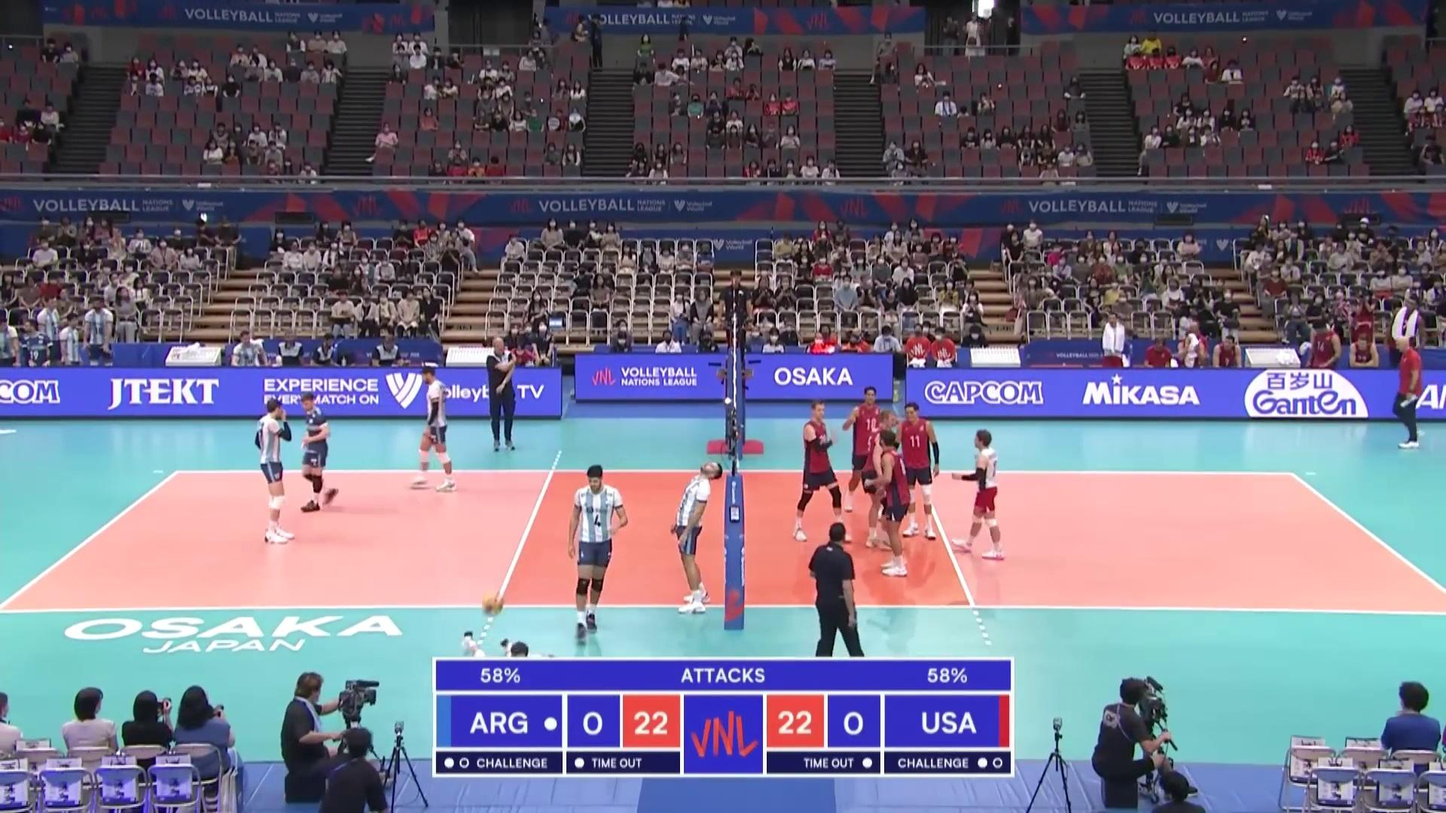player: (568, 464, 628, 643), (793, 401, 851, 542), (670, 462, 721, 617), (956, 427, 1003, 563), (456, 629, 563, 688), (869, 431, 910, 580), (843, 388, 889, 520), (412, 368, 460, 494), (895, 403, 938, 542), (254, 400, 294, 545), (865, 410, 905, 550), (296, 394, 340, 514)
refree: (806, 525, 870, 659), (716, 268, 755, 377)
